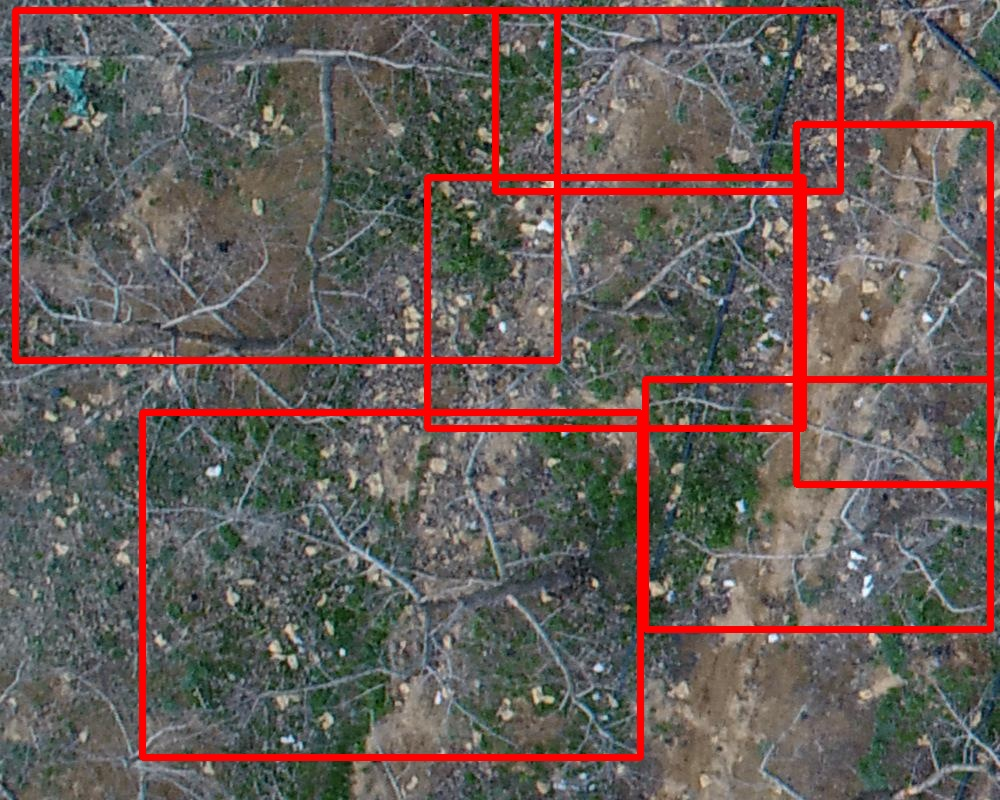apple: (15, 10, 557, 360), (142, 412, 640, 757), (427, 177, 803, 428), (645, 379, 990, 629), (796, 124, 990, 484), (495, 10, 840, 191)
